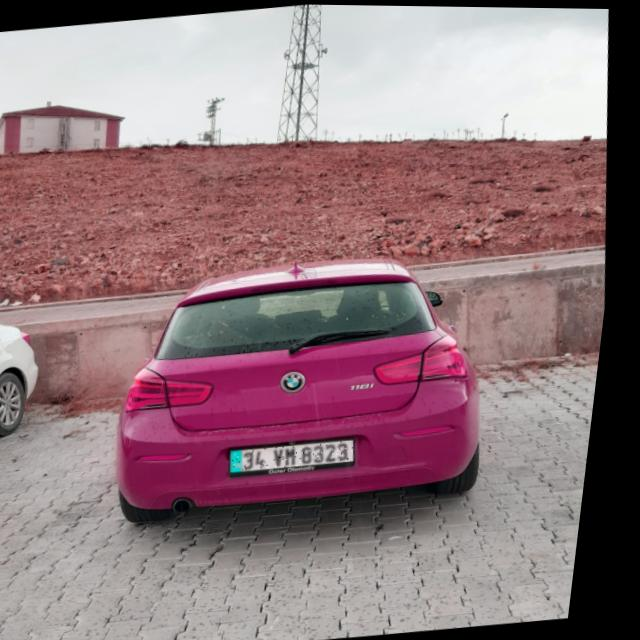license_plate: (240, 437, 366, 472)
